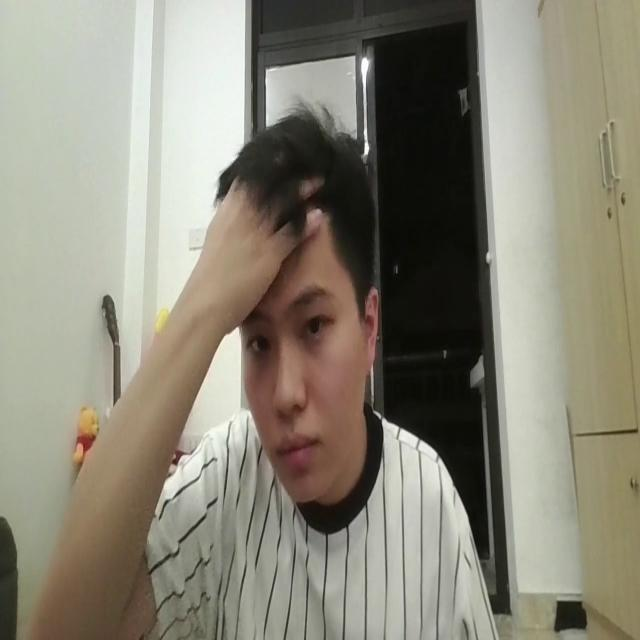student: (38, 113, 506, 640)
